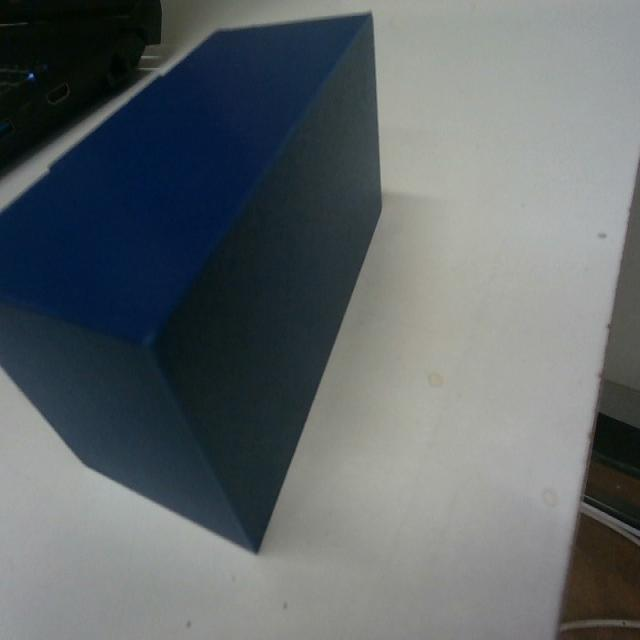Blue Cuboid: (0, 8, 384, 553)
